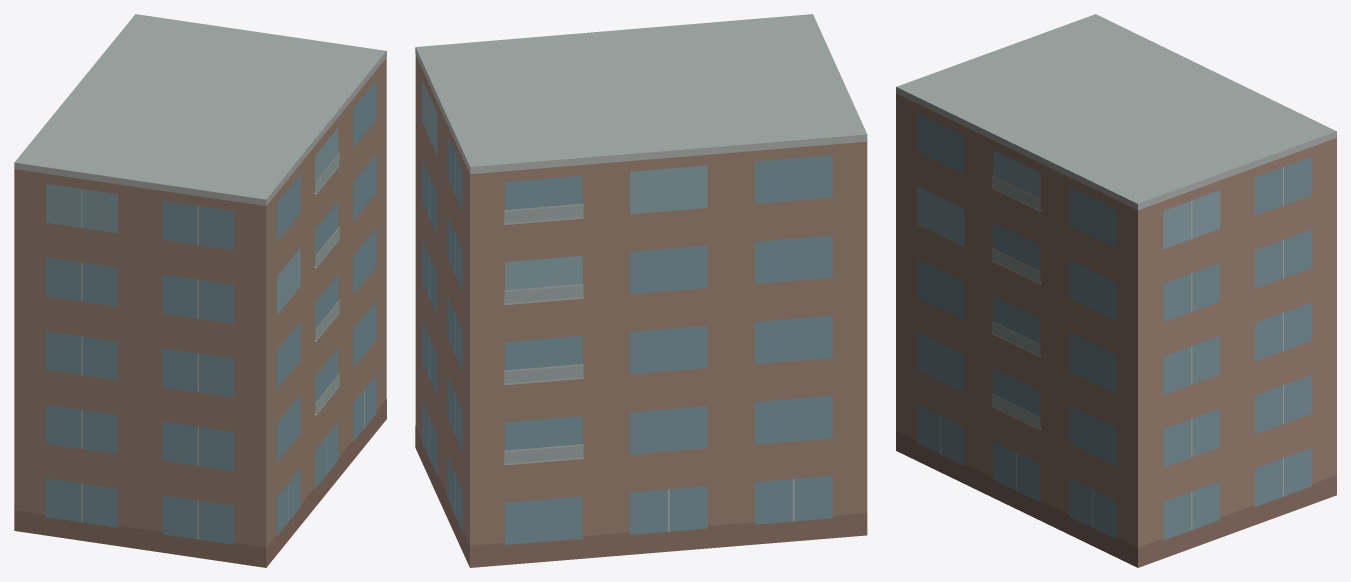
The model's file is survey-upis-32963695.glb.
3 views of the same model, side by side, from view 1: azimuth 30°, elevation 25°; view 2: azimuth 150°, elevation 25°; view 3: azimuth 270°, elevation 25° (orthographic). The views are drawn at different scales.
Parts seen in each view (by area): view 1: survey-upis-32963695.tmp; view 2: survey-upis-32963695.tmp; view 3: survey-upis-32963695.tmp.
Boxes of the visible parts, bbox=[...] form: survey-upis-32963695.tmp: bbox=[14, 14, 386, 567]; survey-upis-32963695.tmp: bbox=[415, 14, 867, 567]; survey-upis-32963695.tmp: bbox=[896, 14, 1336, 567].
Size of the model in its own units: 15.49 by 13.83 by 15.19.
